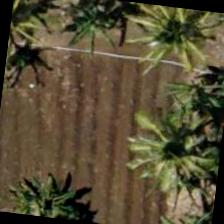Kelapa_Sawit: (125, 92, 223, 193), (123, 2, 220, 76)
